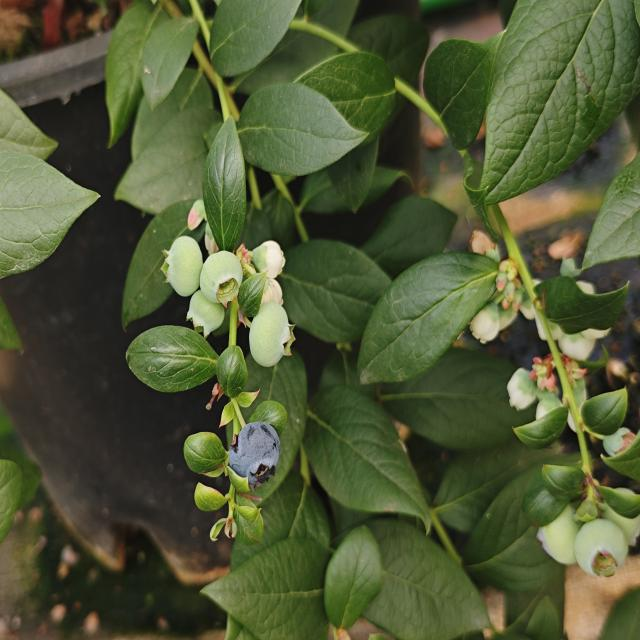ripe: (208, 396, 292, 489)
